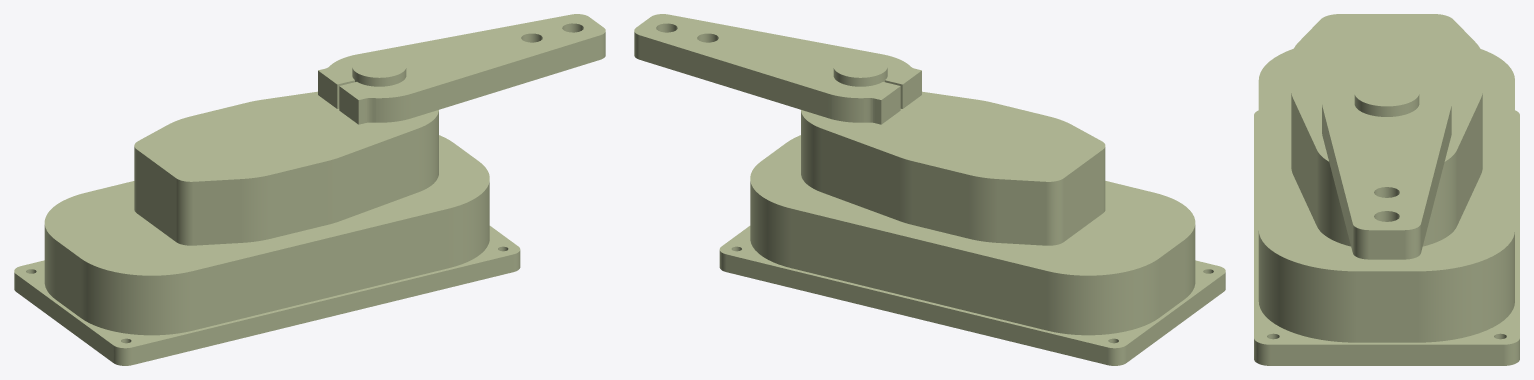
The model's file is CONTROL__STEERING__STEERING COMPONENTS__autopilot DD1.glb.
3 views of the same model, side by side, from view 1: azimuth 30°, elevation 25°; view 2: azimuth 150°, elevation 25°; view 3: azimuth 270°, elevation 25° (orthographic). The views are drawn at different scales.
Parts seen in each view (by area): view 1: autopilot DD1; view 2: autopilot DD1; view 3: autopilot DD1.
Boxes of the visible parts, <box> form: autopilot DD1: <box>14,14,605,365</box>; autopilot DD1: <box>634,14,1225,365</box>; autopilot DD1: <box>1254,14,1519,365</box>.
Size of the model in its own units: 0.453 by 0.15 by 0.164.
